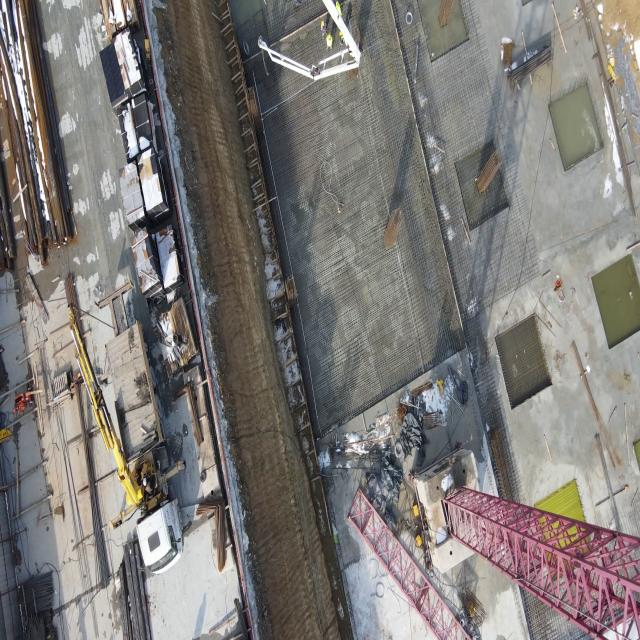p3rson: (171, 331, 187, 347), (142, 475, 153, 494), (320, 20, 328, 40), (326, 32, 333, 52), (335, 0, 341, 15), (339, 30, 344, 46)
